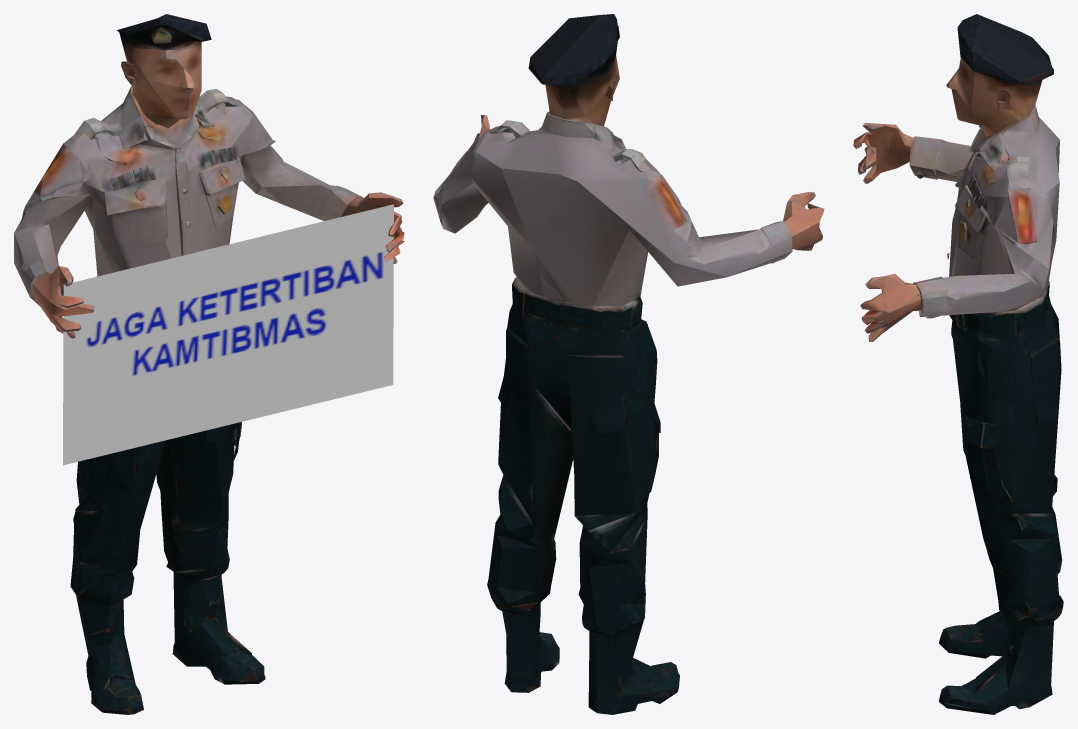
File: polisi_spanduk_idle_lod2.glb
3 renders of one model, left to right at view 1: azimuth 30°, elevation 25°; view 2: azimuth 150°, elevation 25°; view 3: azimuth 270°, elevation 25°, orthographic. The views are drawn at different scales.
Parts seen in each view (by area): view 1: tripo_node_0de06b4d; view 2: tripo_node_0de06b4d; view 3: tripo_node_0de06b4d.
Boxes of the visible parts, x1=… form: tripo_node_0de06b4d: x1=14, y1=14, x2=404, y2=714; tripo_node_0de06b4d: x1=433, y1=14, x2=824, y2=714; tripo_node_0de06b4d: x1=853, y1=14, x2=1063, y2=714.
Size of the model in its own units: 54.31 by 100 by 29.09.
Materials: 2 (2 with a texture image).
